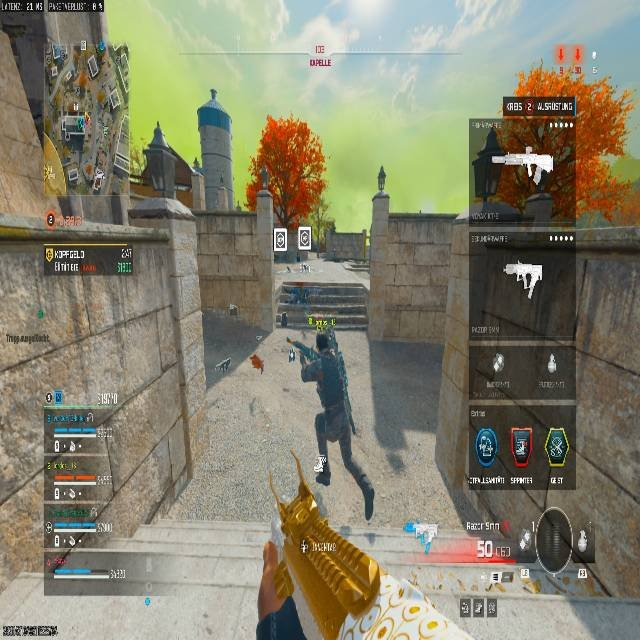head: (314, 333, 331, 353)
player: (292, 332, 379, 521), (249, 353, 264, 374)
